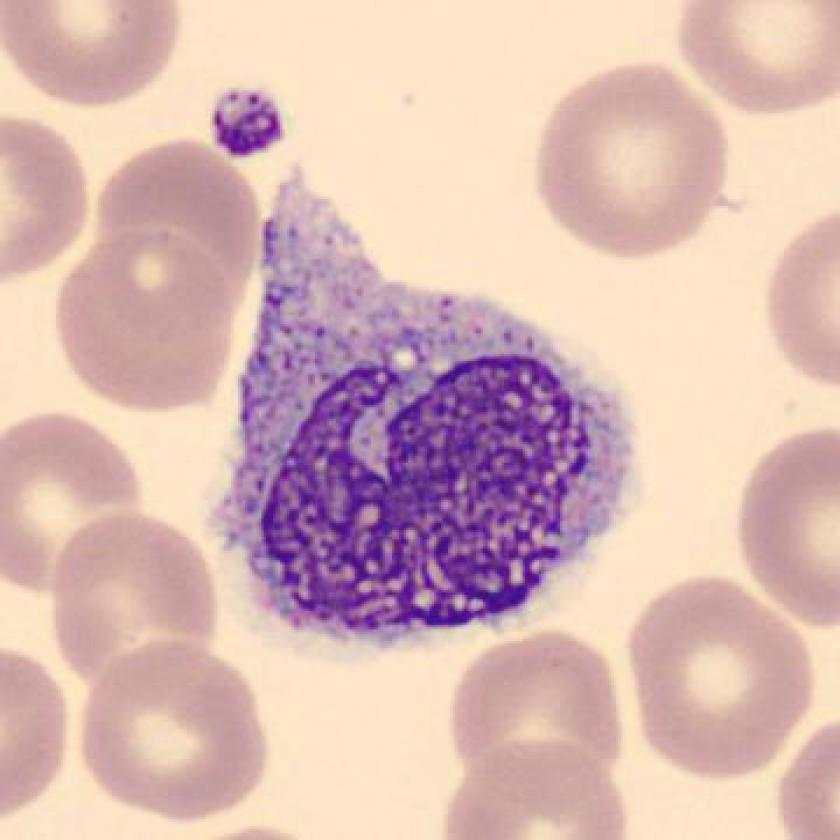monocyte: (193, 154, 662, 656)
